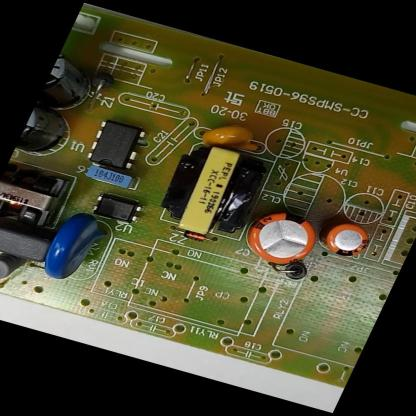Cap1: (231, 197, 330, 275)
Cap2: (310, 212, 380, 268)
Cap3: (12, 93, 92, 169)
Cap4: (34, 44, 114, 122)
MOSFET: (77, 114, 155, 178)
Mov: (31, 206, 120, 291)
Resistor: (0, 243, 30, 292)
Transformer: (148, 131, 279, 246), (0, 159, 76, 235)
